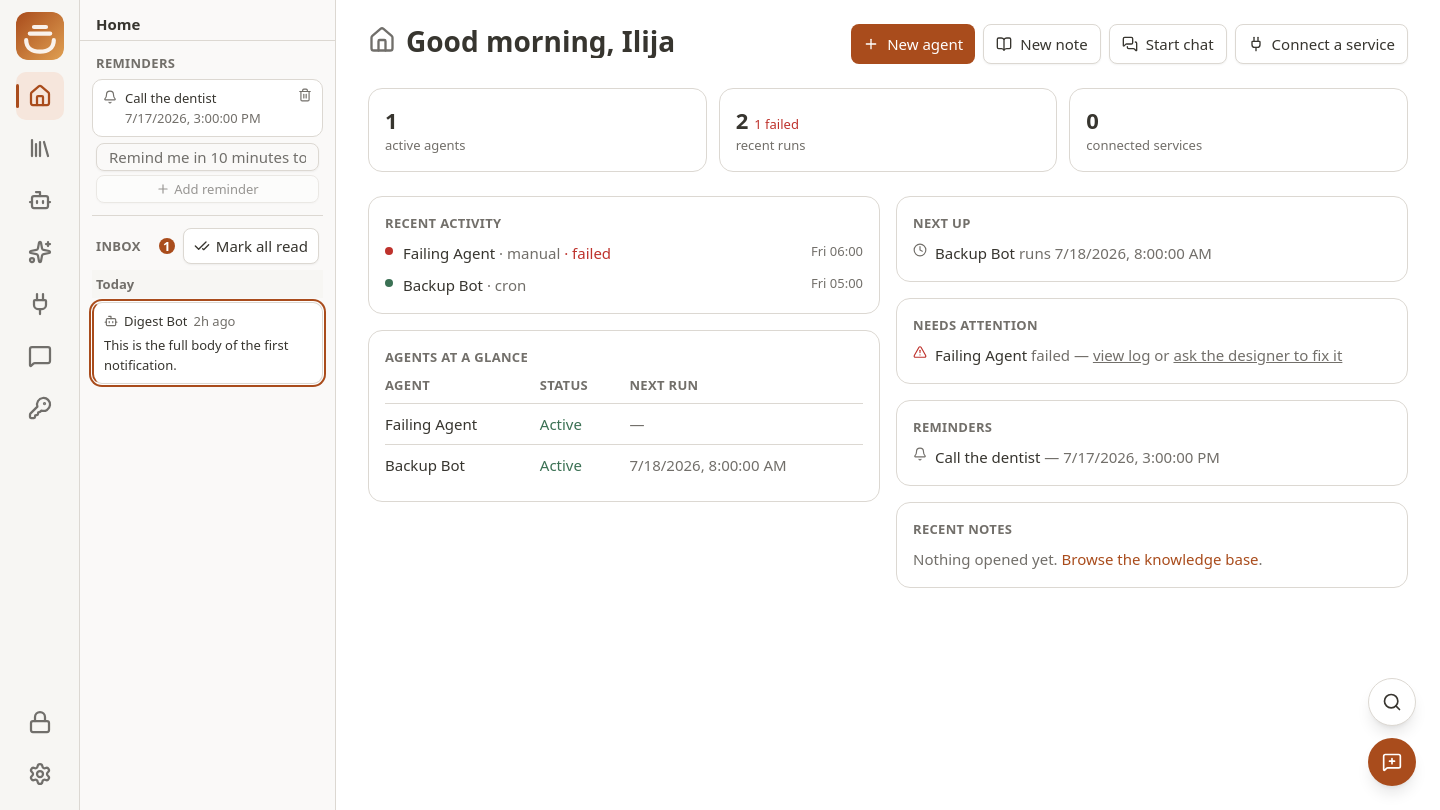
Test: reminders: delete removes a reminder
expect the text "Call the dentist" below "Home" is shown: met, box [125,89,216,107]
Click the button named "delete reminder" at (305, 95), box [298,88,312,102]
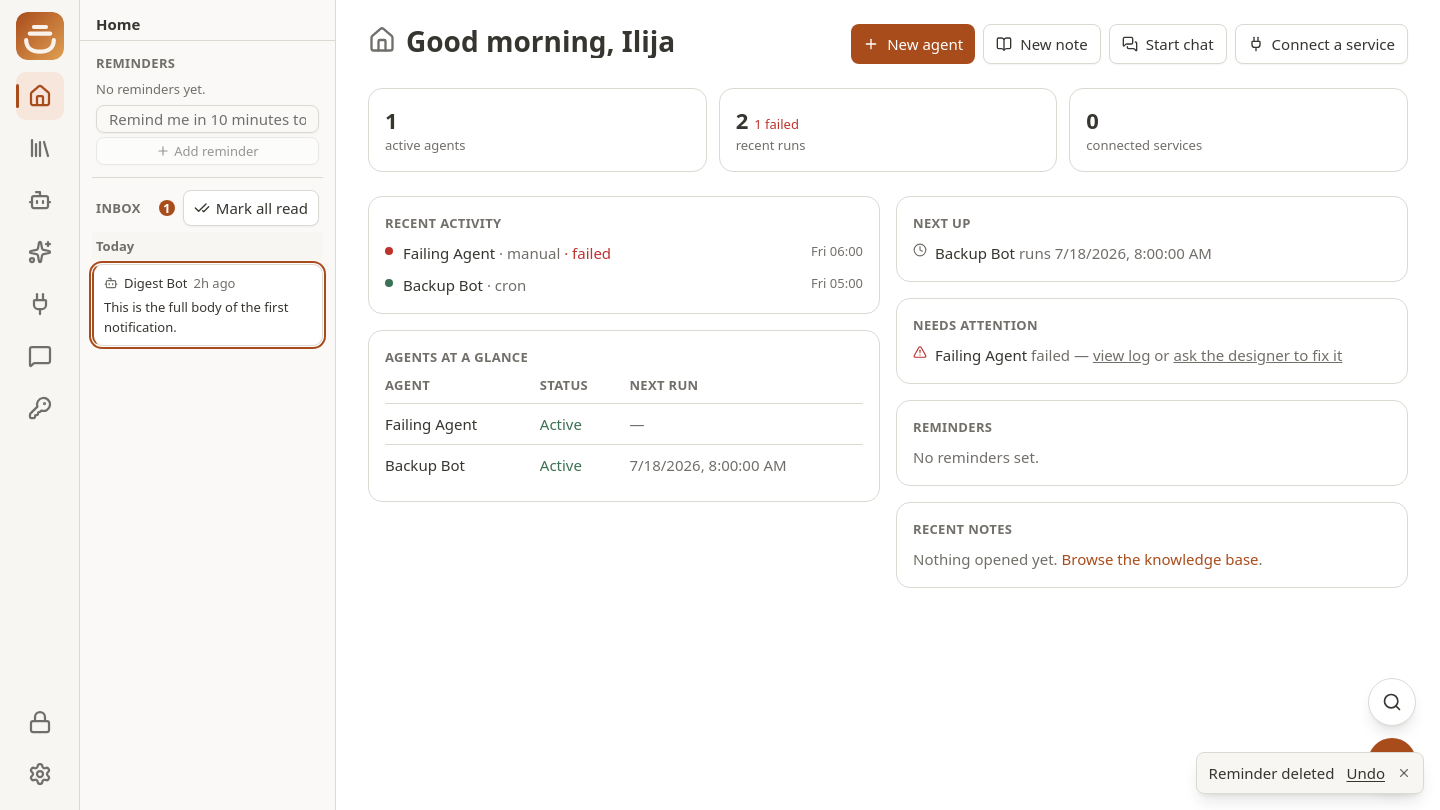
expect the text "Call the dentist" is gone: met
